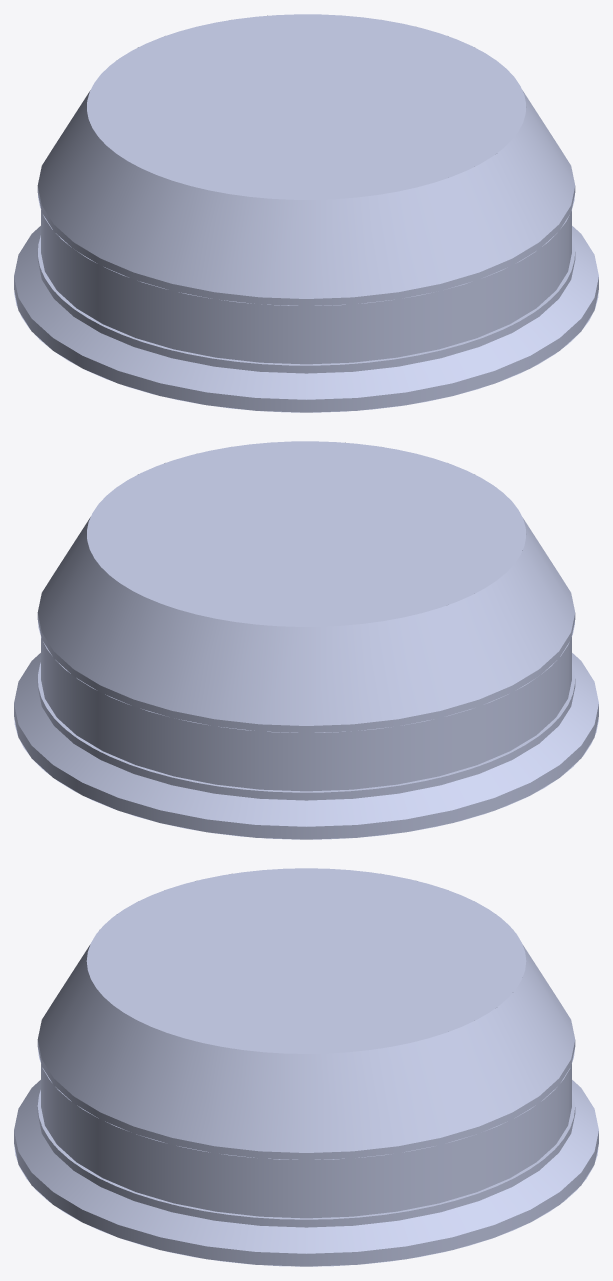
The model's file is clamp_j32_j25.glb.
3 renders of one model, top to bottom at view 1: azimuth 30°, elevation 25°; view 2: azimuth 150°, elevation 25°; view 3: azimuth 270°, elevation 25°, orthographic.
Visible parts, largest first — view 1: clamp_J32_J25.IGS (×13); view 2: clamp_J32_J25.IGS (×13); view 3: clamp_J32_J25.IGS (×15).
Part boxes in pixels (x1,y1,x2,y2): clamp_J32_J25.IGS (×13): [14, 14, 598, 412]; clamp_J32_J25.IGS (×13): [14, 441, 598, 839]; clamp_J32_J25.IGS (×15): [14, 868, 598, 1266].
Size of the model in its own units: 0.185 by 0.0635 by 0.185.
